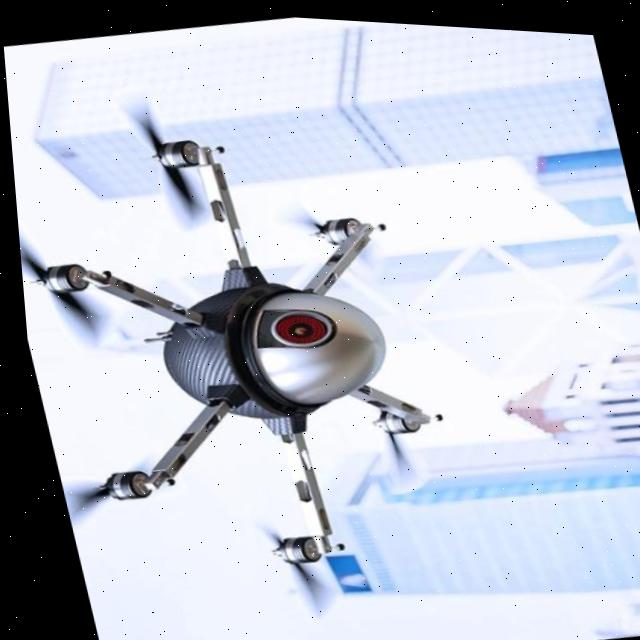drones: (0, 5, 512, 640)
